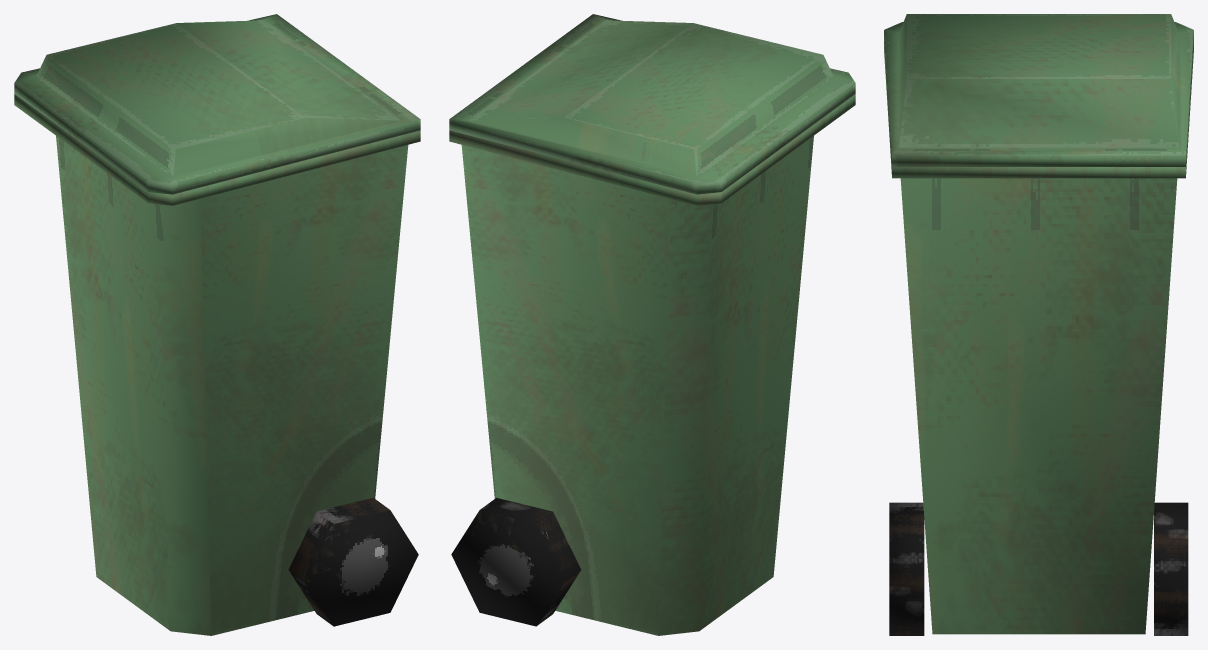
The model's file is Kosz.gltf.
3 renders of one model, left to right at view 1: azimuth 30°, elevation 25°; view 2: azimuth 150°, elevation 25°; view 3: azimuth 270°, elevation 25°, orthographic. The views are drawn at different scales.
Visible parts, largest first — view 1: Kosz, Cube.004; view 2: Kosz, Cube.004; view 3: Kosz, Cube.004.
Boxes of the visible parts, x1,y1,x2,y2 form: Kosz: [14, 94, 420, 635]; Cube.004: [14, 14, 420, 194]; Kosz: [449, 94, 855, 635]; Cube.004: [449, 14, 855, 194]; Kosz: [884, 42, 1193, 635]; Cube.004: [884, 14, 1193, 166].
Bounding box in the file's own units: 0.5236 × 0.95 × 0.5137.
